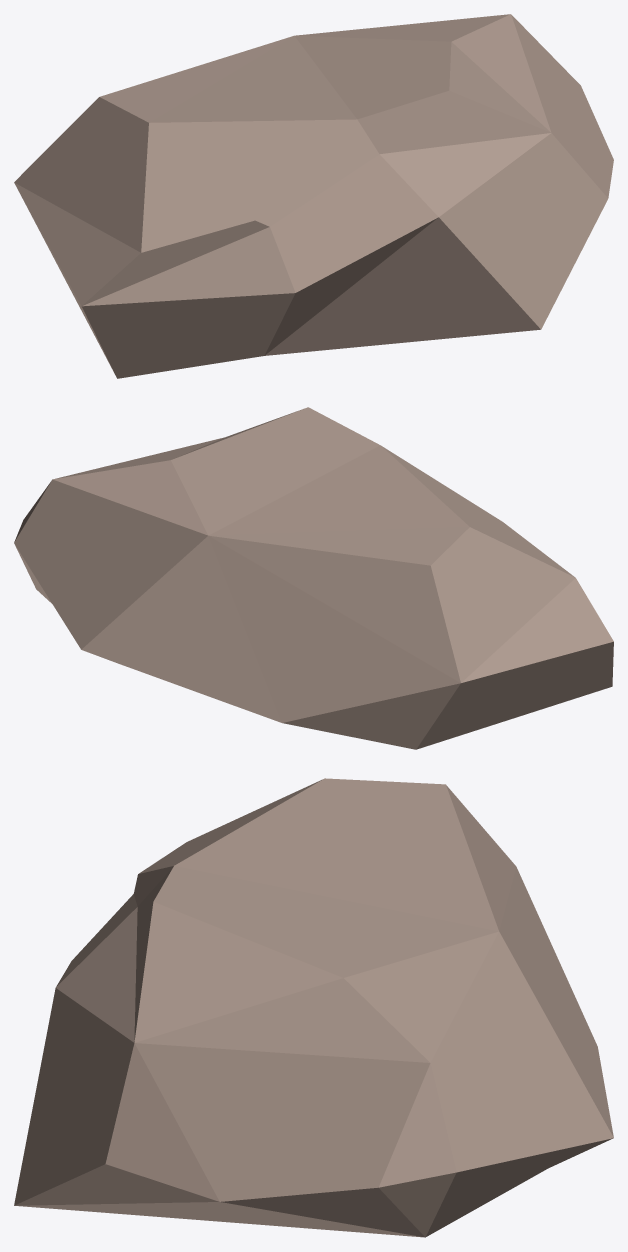
The model's file is Rock2.fbx.
3 views of the same model, one above another, from view 1: azimuth 30°, elevation 25°; view 2: azimuth 150°, elevation 25°; view 3: azimuth 270°, elevation 25° (orthographic). The views are drawn at different scales.
Visible parts, largest first — view 1: polySurface9066; view 2: polySurface9066; view 3: polySurface9066.
Part boxes in pixels (x1,y1,x2,y2): polySurface9066: [14, 14, 613, 378]; polySurface9066: [14, 407, 613, 749]; polySurface9066: [14, 778, 613, 1237].
Bounding box in the file's own units: 14.1 × 5.7 × 9.83.
